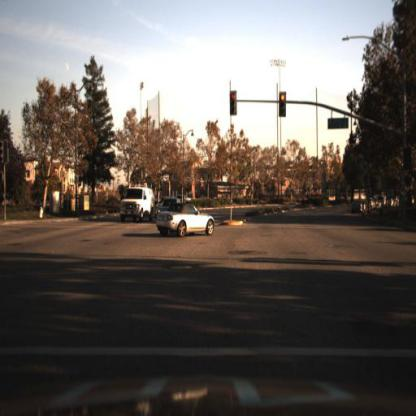car: (150, 192, 225, 252), (118, 181, 156, 232), (155, 192, 186, 226), (349, 196, 368, 218), (350, 196, 362, 215)
trafficLight-Red: (277, 86, 288, 121), (402, 144, 414, 172)
trafficLight-RedLeft: (228, 85, 237, 119)
